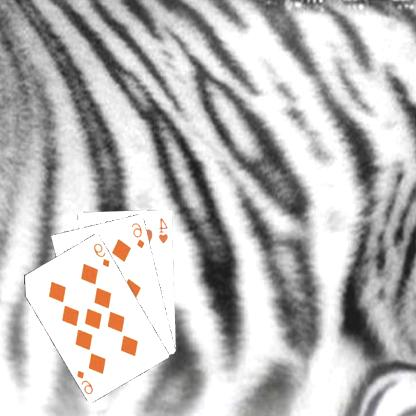4H: (158, 215, 172, 245)
6D: (130, 220, 148, 250)
9D: (92, 240, 113, 268), (76, 367, 96, 396)
